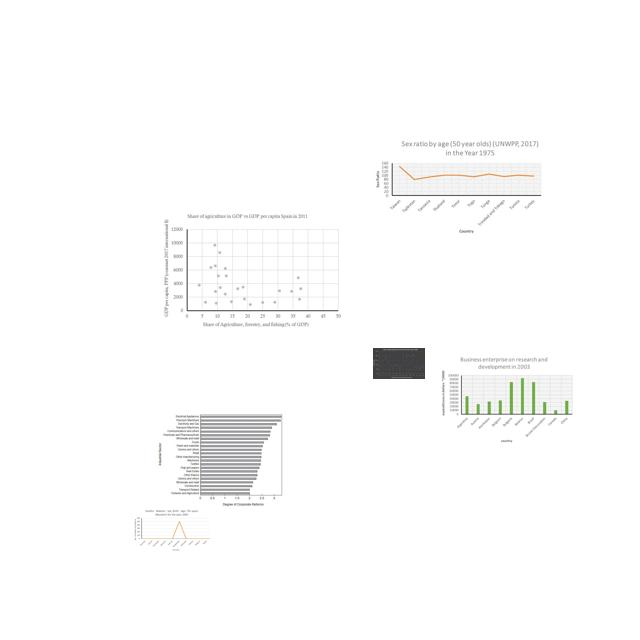Graph: (159, 208, 343, 329), (371, 137, 545, 237), (157, 406, 286, 508), (439, 354, 575, 445), (133, 508, 212, 552), (373, 348, 425, 379)
